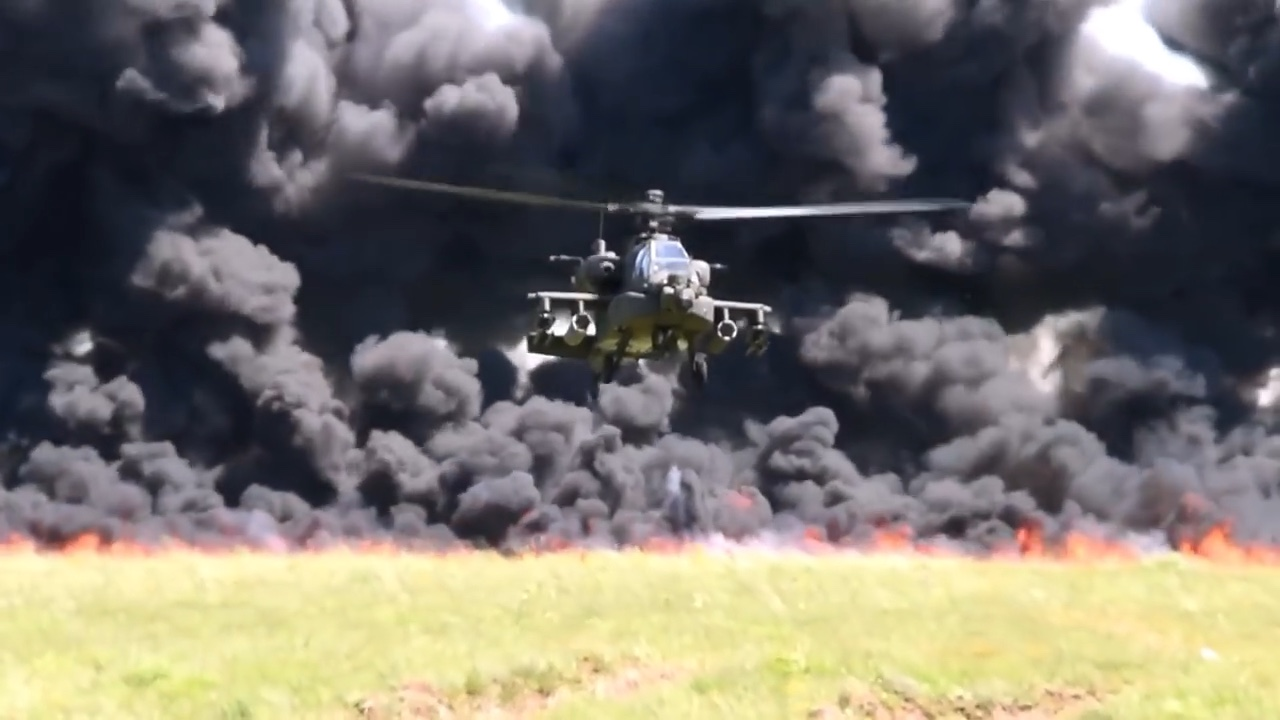ah64: (350, 186, 971, 391)
